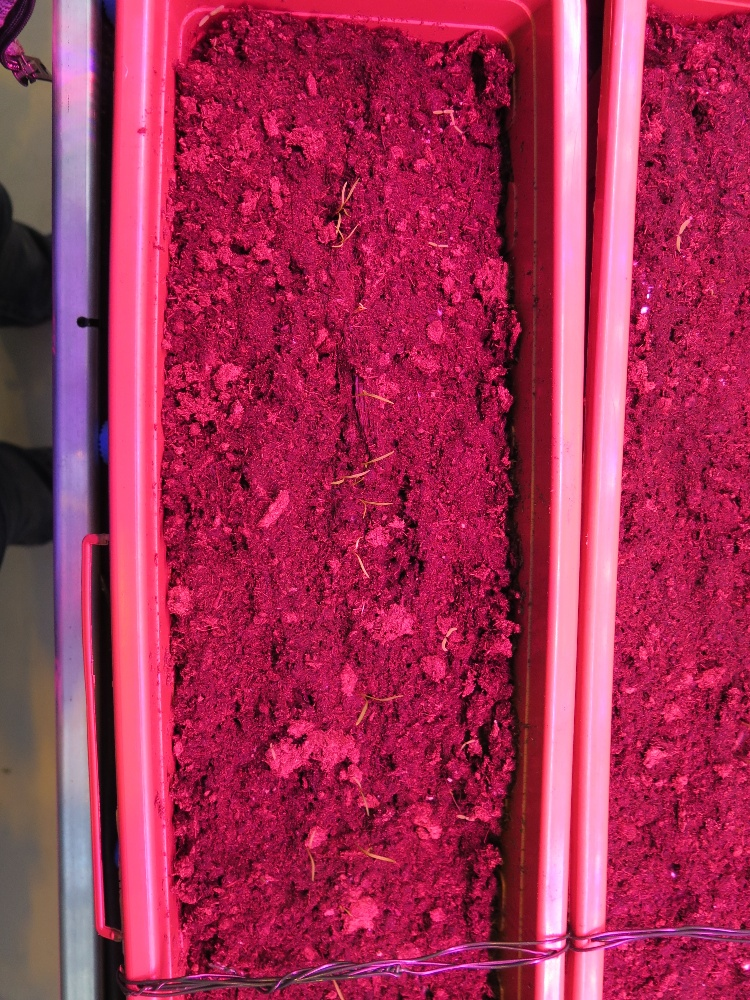crop: (347, 836, 404, 876), (349, 688, 406, 727), (354, 379, 399, 411), (299, 823, 322, 885), (346, 769, 375, 818), (355, 448, 398, 480), (336, 179, 361, 233), (328, 468, 378, 494), (328, 216, 360, 255), (348, 529, 372, 580), (352, 494, 395, 522)
weed: (676, 215, 691, 255), (440, 624, 458, 654), (426, 238, 449, 250)
